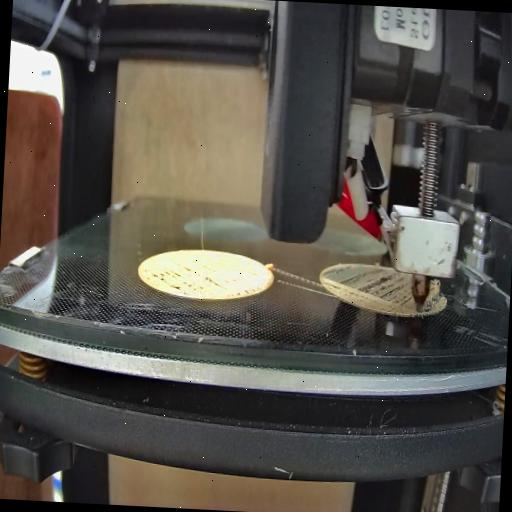under_extrusion: (318, 262, 412, 300), (144, 259, 226, 295), (416, 274, 446, 316), (234, 279, 264, 303)
